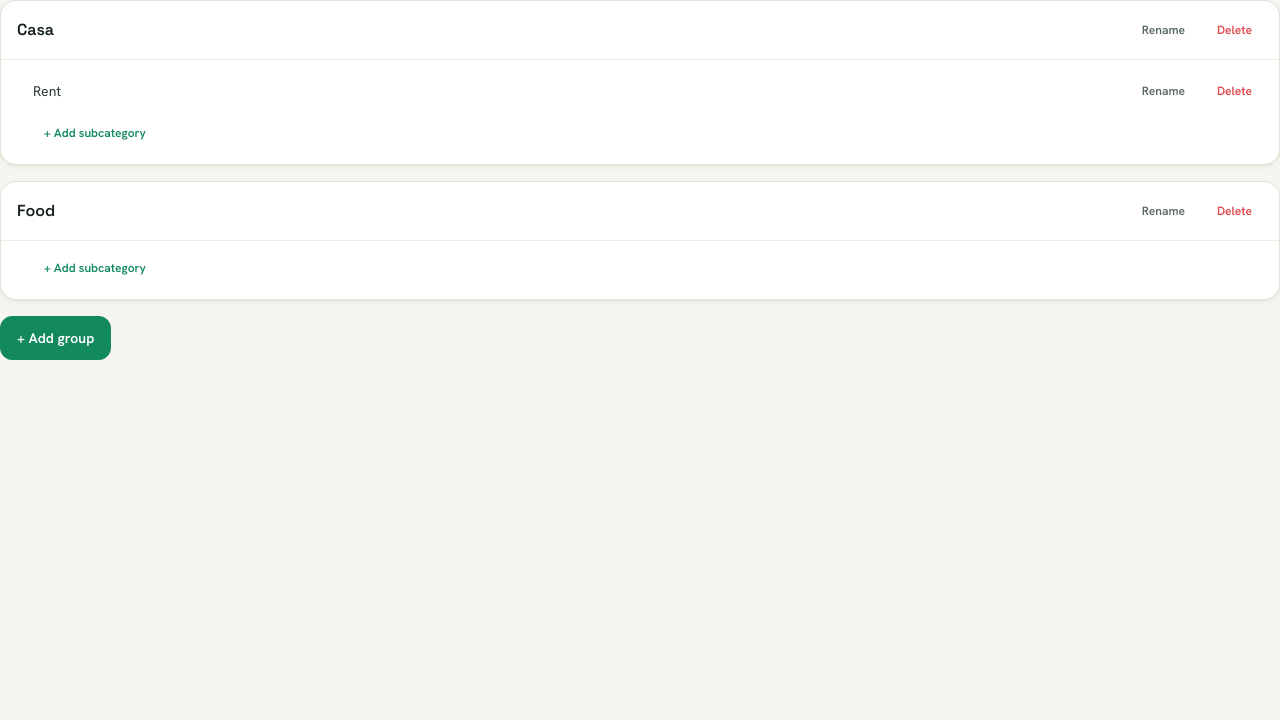
Test case: CategoriesManager — group deletion › TC-06-05: clicking Delete on group opens confirm dialog
The width and height of the screenshot is (1280, 720).
Step 1. Click the button "Delete" in the row of "Casa" → (1234, 30), box [1206,15,1263,45]
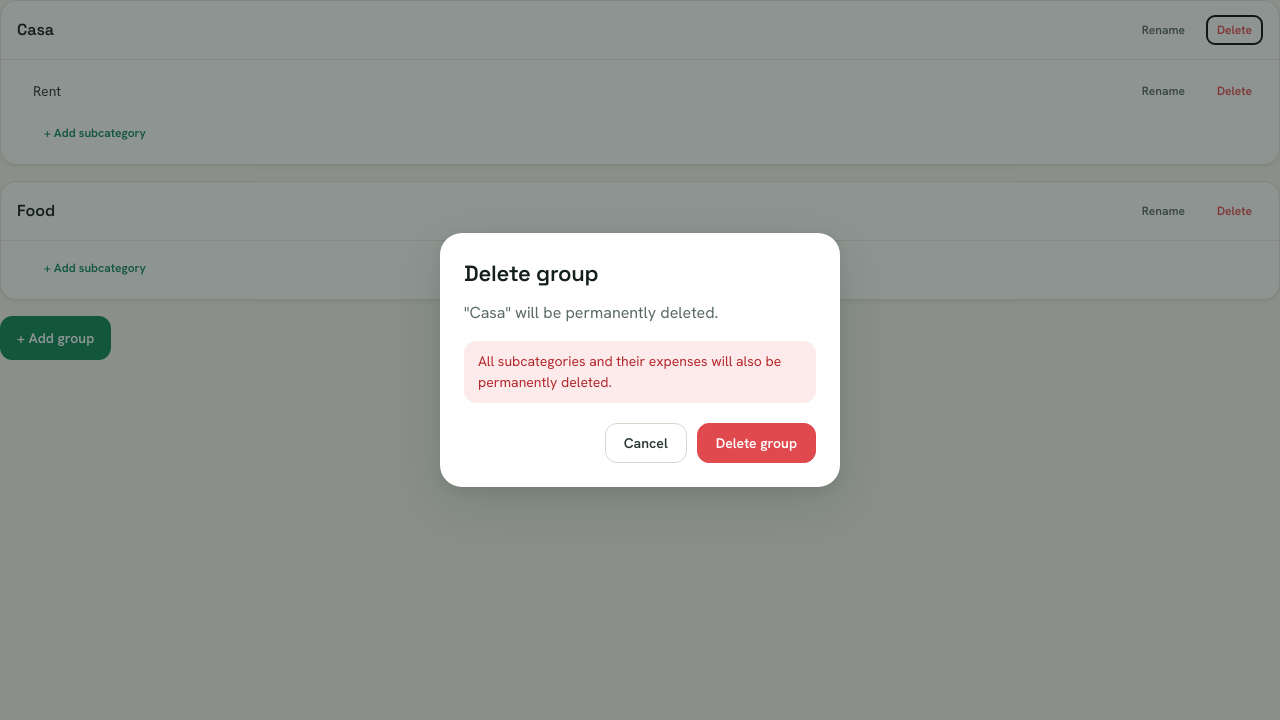
Result: the dialog is shown
